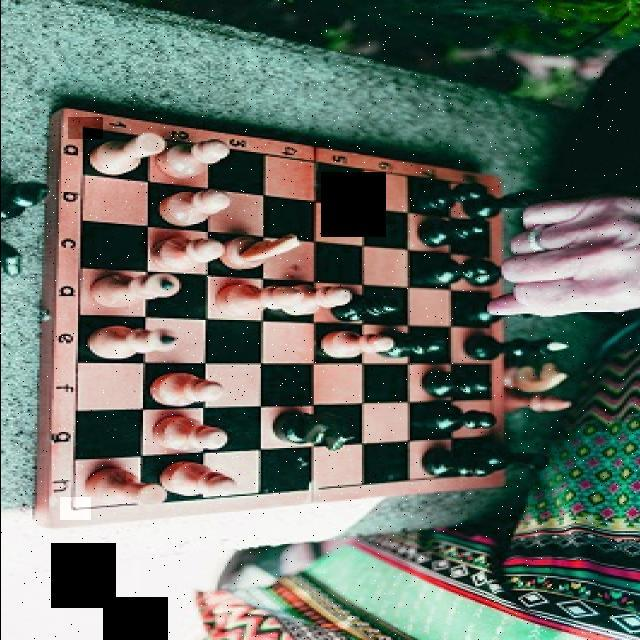chess-table-corners: (67, 117, 102, 139), (59, 497, 90, 520)
